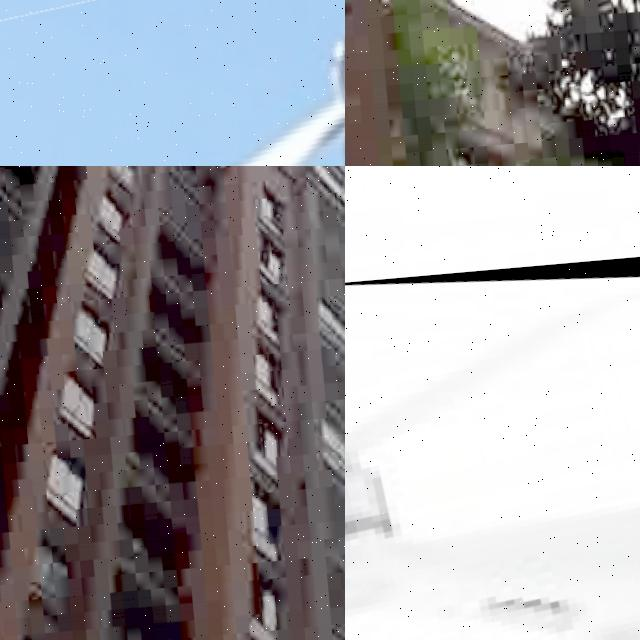drone: (345, 230, 640, 640), (0, 0, 345, 166)
